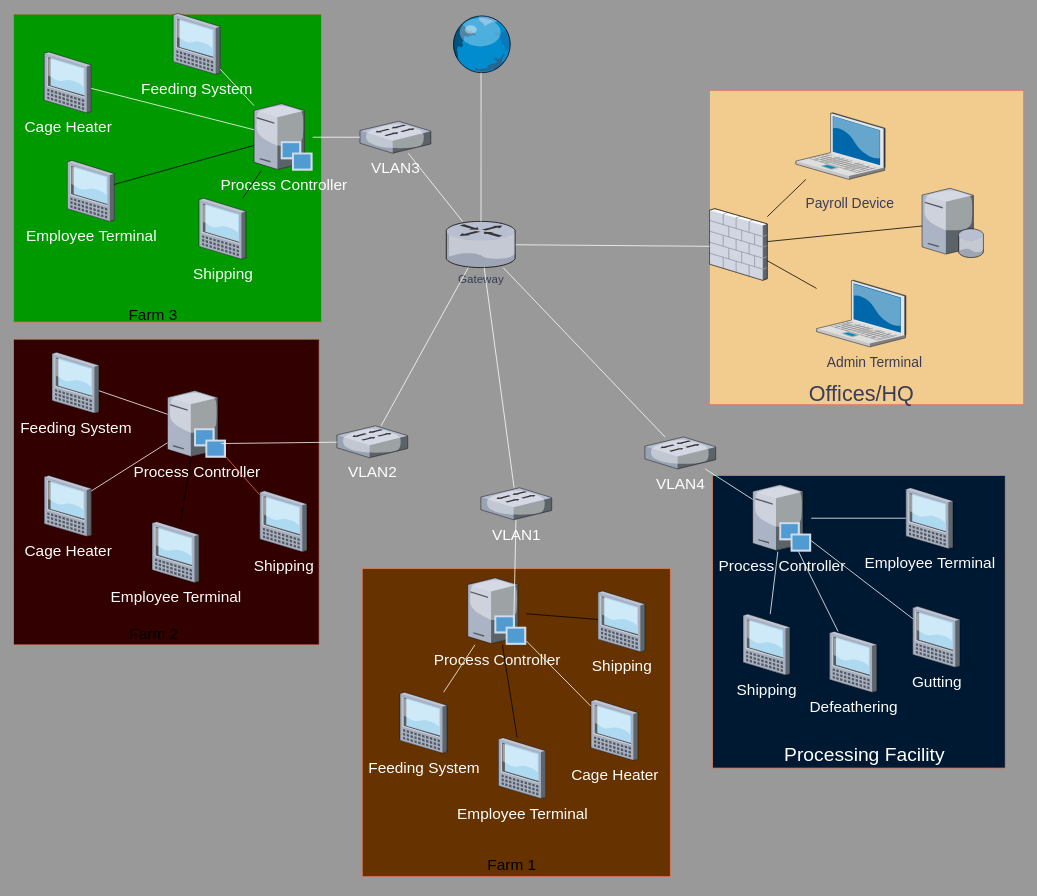
Some shapes in this 1037 by 896 pixel diagram are drawn without their labels. The shapes that lost their labels are listed below. From the top down, each one's centre as x and y in pixels, then its label:
the point at 480,43: Internet
the point at 952,222: Payroll/Records DB
